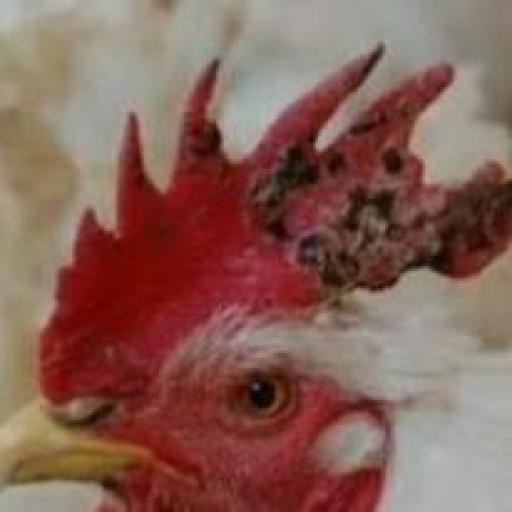disease: (186, 48, 512, 295)
